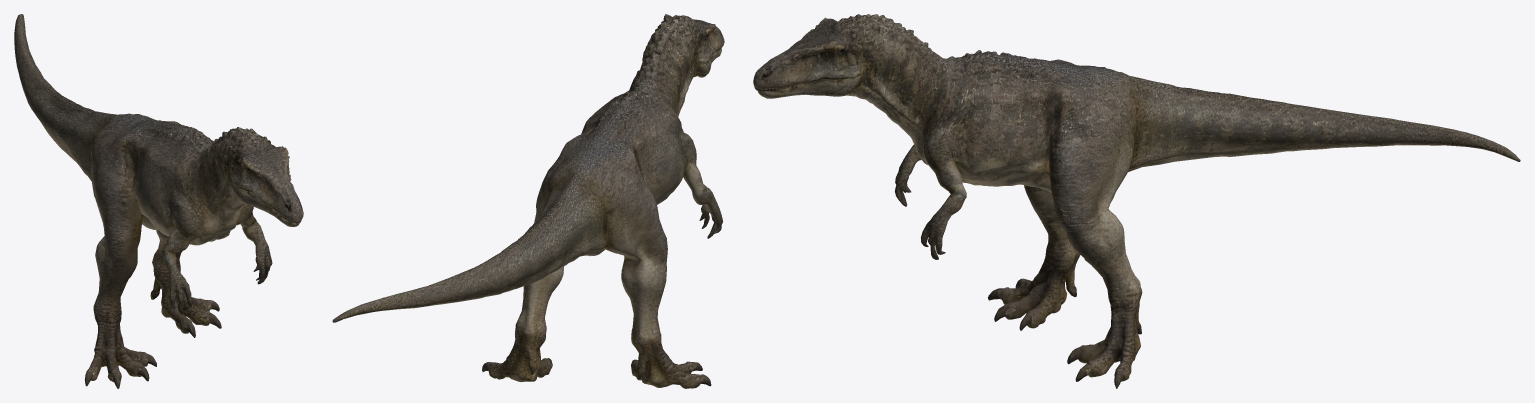
The model's file is giganotosaurus.glb.
3 views of the same model, side by side, from view 1: azimuth 30°, elevation 25°; view 2: azimuth 150°, elevation 25°; view 3: azimuth 270°, elevation 25° (orthographic). The views are drawn at different scales.
Visible parts, largest first — view 1: dino; view 2: dino; view 3: dino.
Boxes of the visible parts, <box> form: dino: <box>14,14,303,388</box>; dino: <box>332,14,724,388</box>; dino: <box>753,14,1520,388</box>.
Bounding box in the file's own units: 3.77 × 5.74 × 12.
Materials: 1 (1 with a texture image).
